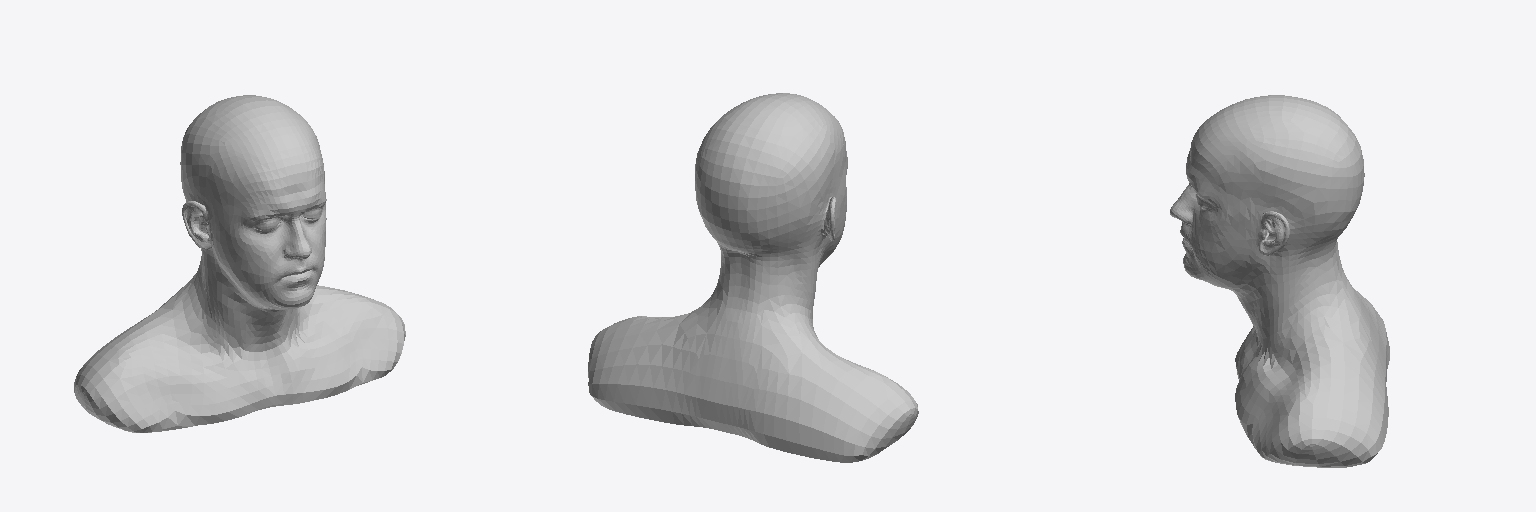
The model's file is lee.obj.
3 views of the same model, side by side, from view 1: azimuth 30°, elevation 25°; view 2: azimuth 150°, elevation 25°; view 3: azimuth 270°, elevation 25° (orthographic).
Parts seen in each view (by area): view 1: lee.001; view 2: lee.001; view 3: lee.001.
Boxes of the visible parts, <box> form: lee.001: <box>74,95,405,432</box>; lee.001: <box>588,93,918,462</box>; lee.001: <box>1170,95,1389,467</box>.
Size of the model in its own units: 0.5573 by 0.5177 by 0.3376.